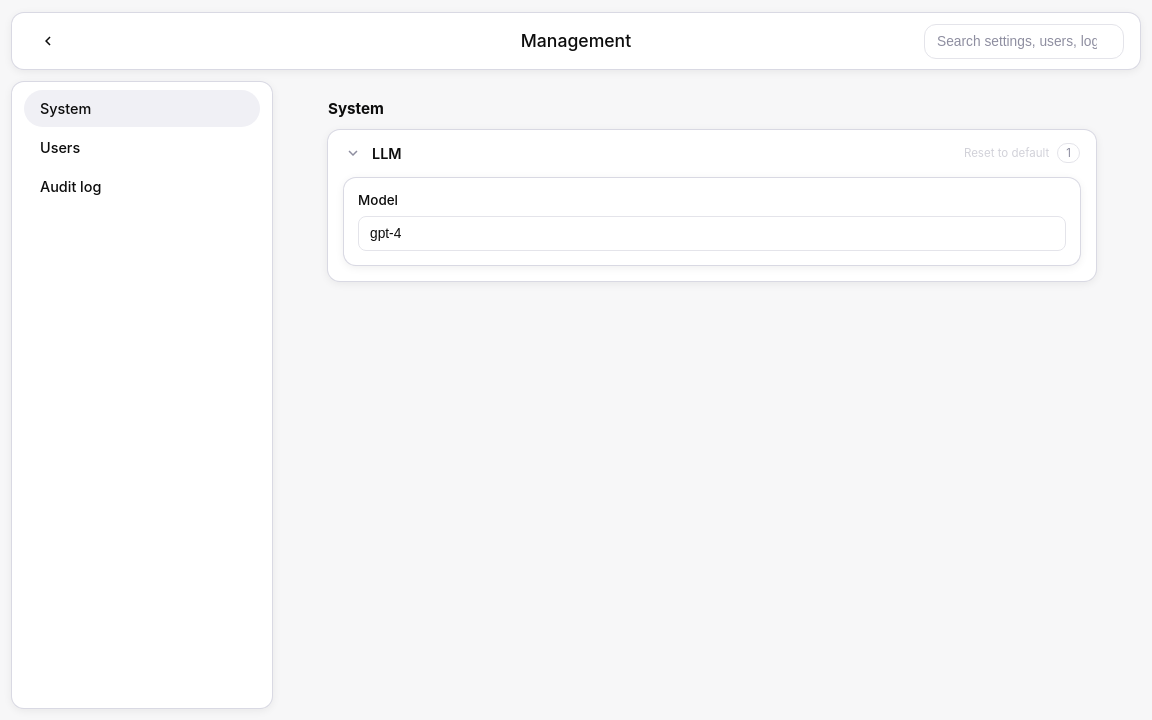
SettingsPage admin tabs › searches across system settings, users, and audit logs from the top bar
The width and height of the screenshot is (1152, 720).
Expected: the heading "Management" is shown, [521, 30, 631, 52]
Type "gpt-4" into the search field at x=1024, y=41, box [924, 24, 1124, 58]
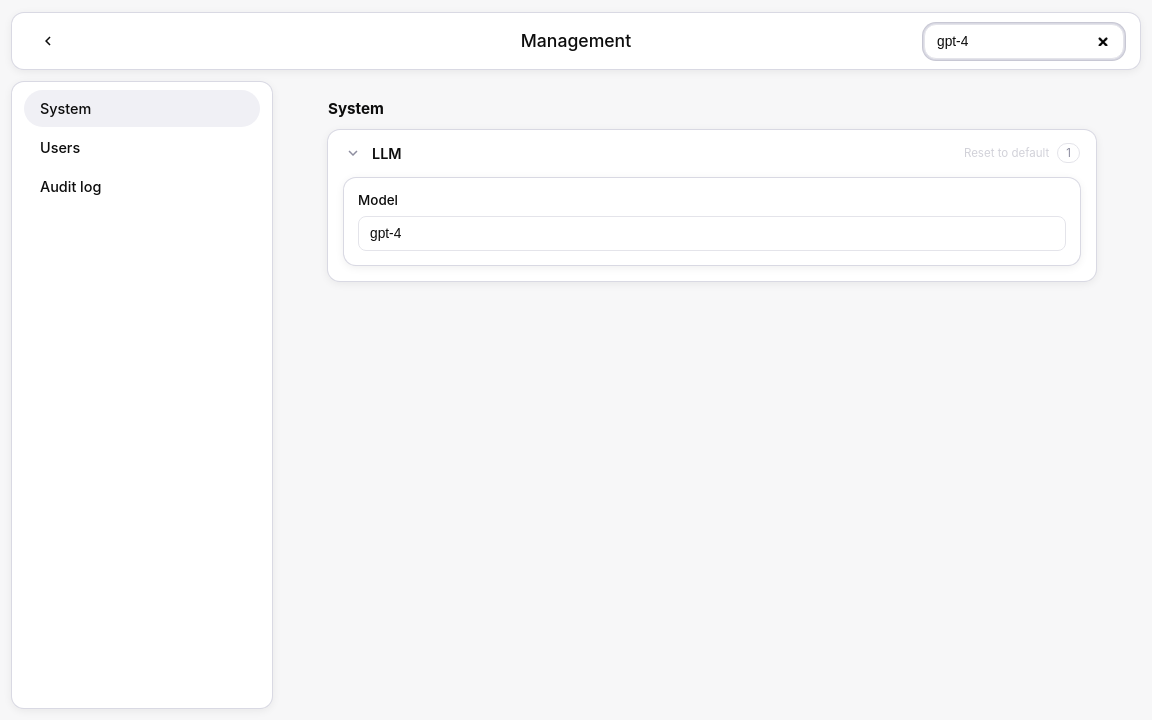
Expected: the field labelled "Model" is shown, [358, 216, 1066, 251]
Expected: the text "Alice" is not shown
Replace the text in the search field with "alice@test.com" at x=1024, y=41, box [924, 24, 1124, 58]
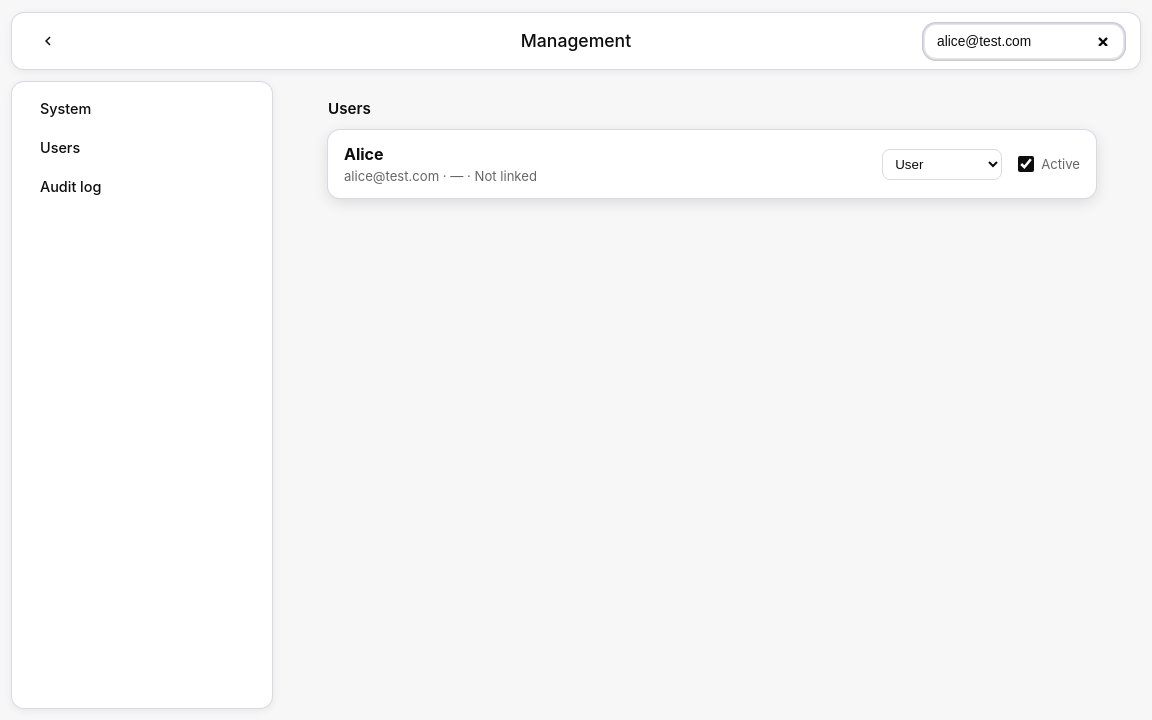
Result: the text "Alice" is shown at [344, 144, 384, 164]
Result: the text labelled "Model" is gone
